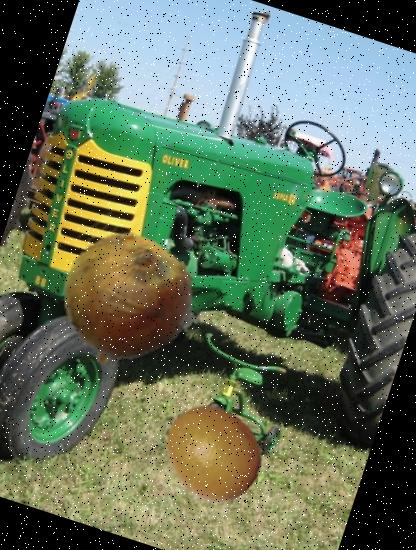Lemon: (147, 388, 277, 518)
Onion: (42, 210, 212, 380)
